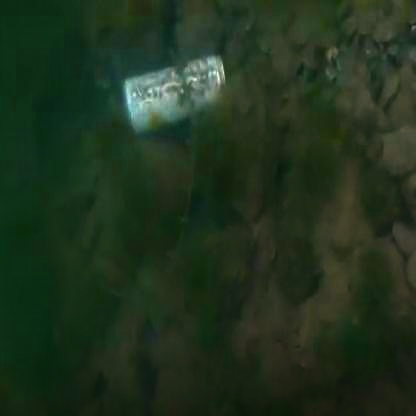can: (124, 44, 258, 153)
